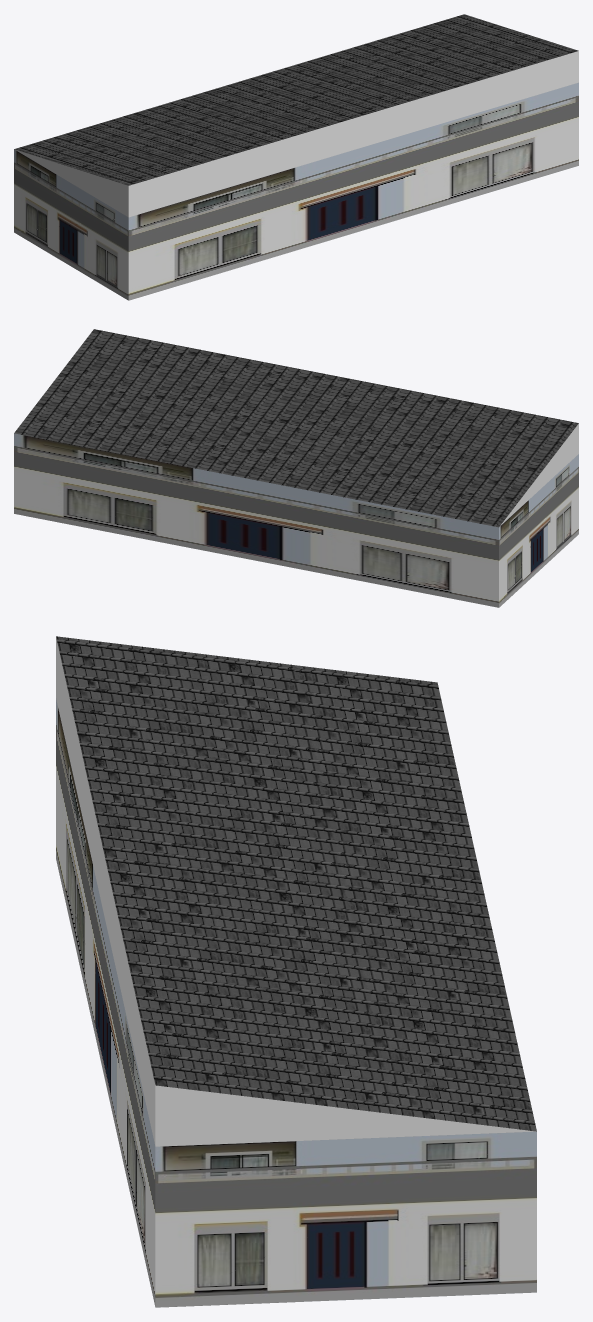
3 views of the same model, one above another, from view 1: azimuth 30°, elevation 25°; view 2: azimuth 150°, elevation 25°; view 3: azimuth 270°, elevation 25° (orthographic). The views are drawn at different scales.
Parts seen in each view (by area): view 1: CityEngineMaterial_7_m, CityEngineMaterial_8_m, CityEngineMaterial_3_m; view 2: CityEngineMaterial_8_m, CityEngineMaterial_7_m, CityEngineMaterial_3_m; view 3: CityEngineMaterial_8_m, CityEngineMaterial_7_m, CityEngineMaterial_3_m.
Boxes of the visible parts, x1,y1,x2,y2 form: CityEngineMaterial_7_m: [14, 82, 578, 300]; CityEngineMaterial_8_m: [14, 14, 578, 185]; CityEngineMaterial_3_m: [15, 51, 578, 217]; CityEngineMaterial_8_m: [14, 329, 578, 527]; CityEngineMaterial_7_m: [14, 433, 578, 607]; CityEngineMaterial_3_m: [500, 423, 578, 525]; CityEngineMaterial_8_m: [56, 636, 536, 1131]; CityEngineMaterial_7_m: [56, 698, 536, 1307]; CityEngineMaterial_3_m: [56, 637, 535, 1146].
Bounding box in the file's own units: 40.26 × 8.99 × 17.63.
